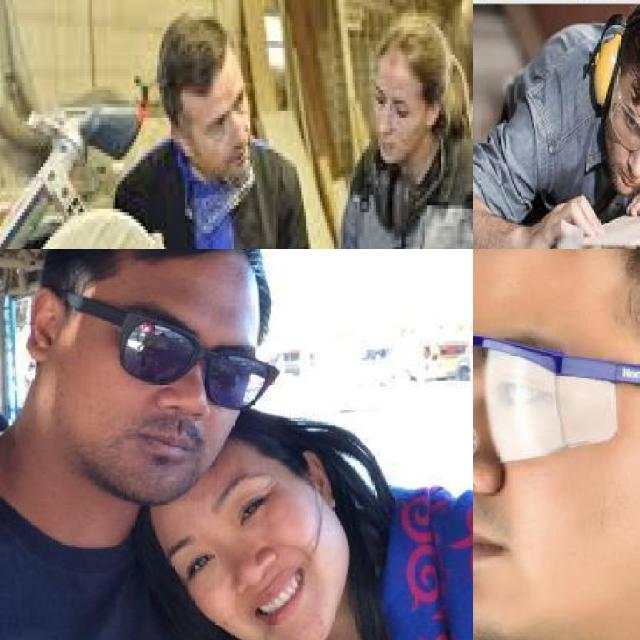Ear-protection: (388, 167, 424, 237), (369, 167, 394, 226)
face_nomask: (473, 312, 577, 609), (161, 465, 329, 626), (100, 292, 250, 471), (609, 106, 640, 189)
glasses: (46, 297, 285, 406), (473, 331, 640, 469), (610, 61, 640, 174)
hand_noglove: (526, 198, 607, 249), (619, 168, 640, 220)
head_nohelmet: (49, 249, 255, 287), (615, 7, 640, 91)
person: (114, 5, 320, 249), (473, 17, 640, 249), (334, 0, 473, 249)
